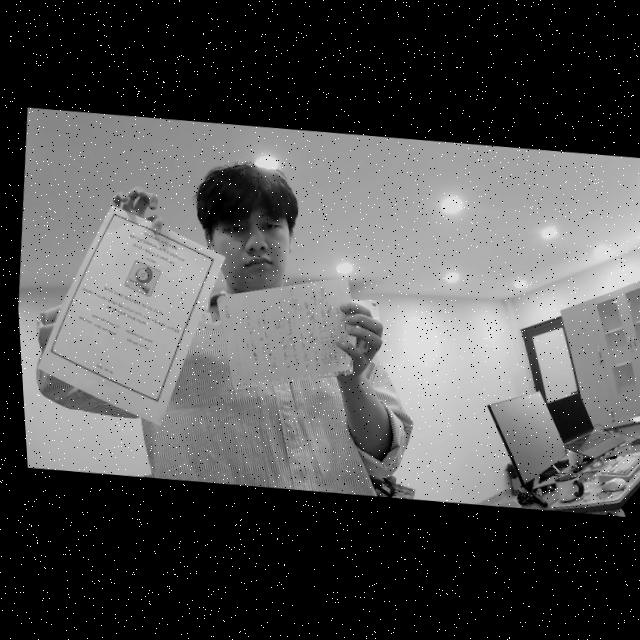document: (38, 205, 225, 425), (215, 278, 356, 390)
face: (218, 161, 294, 292)
